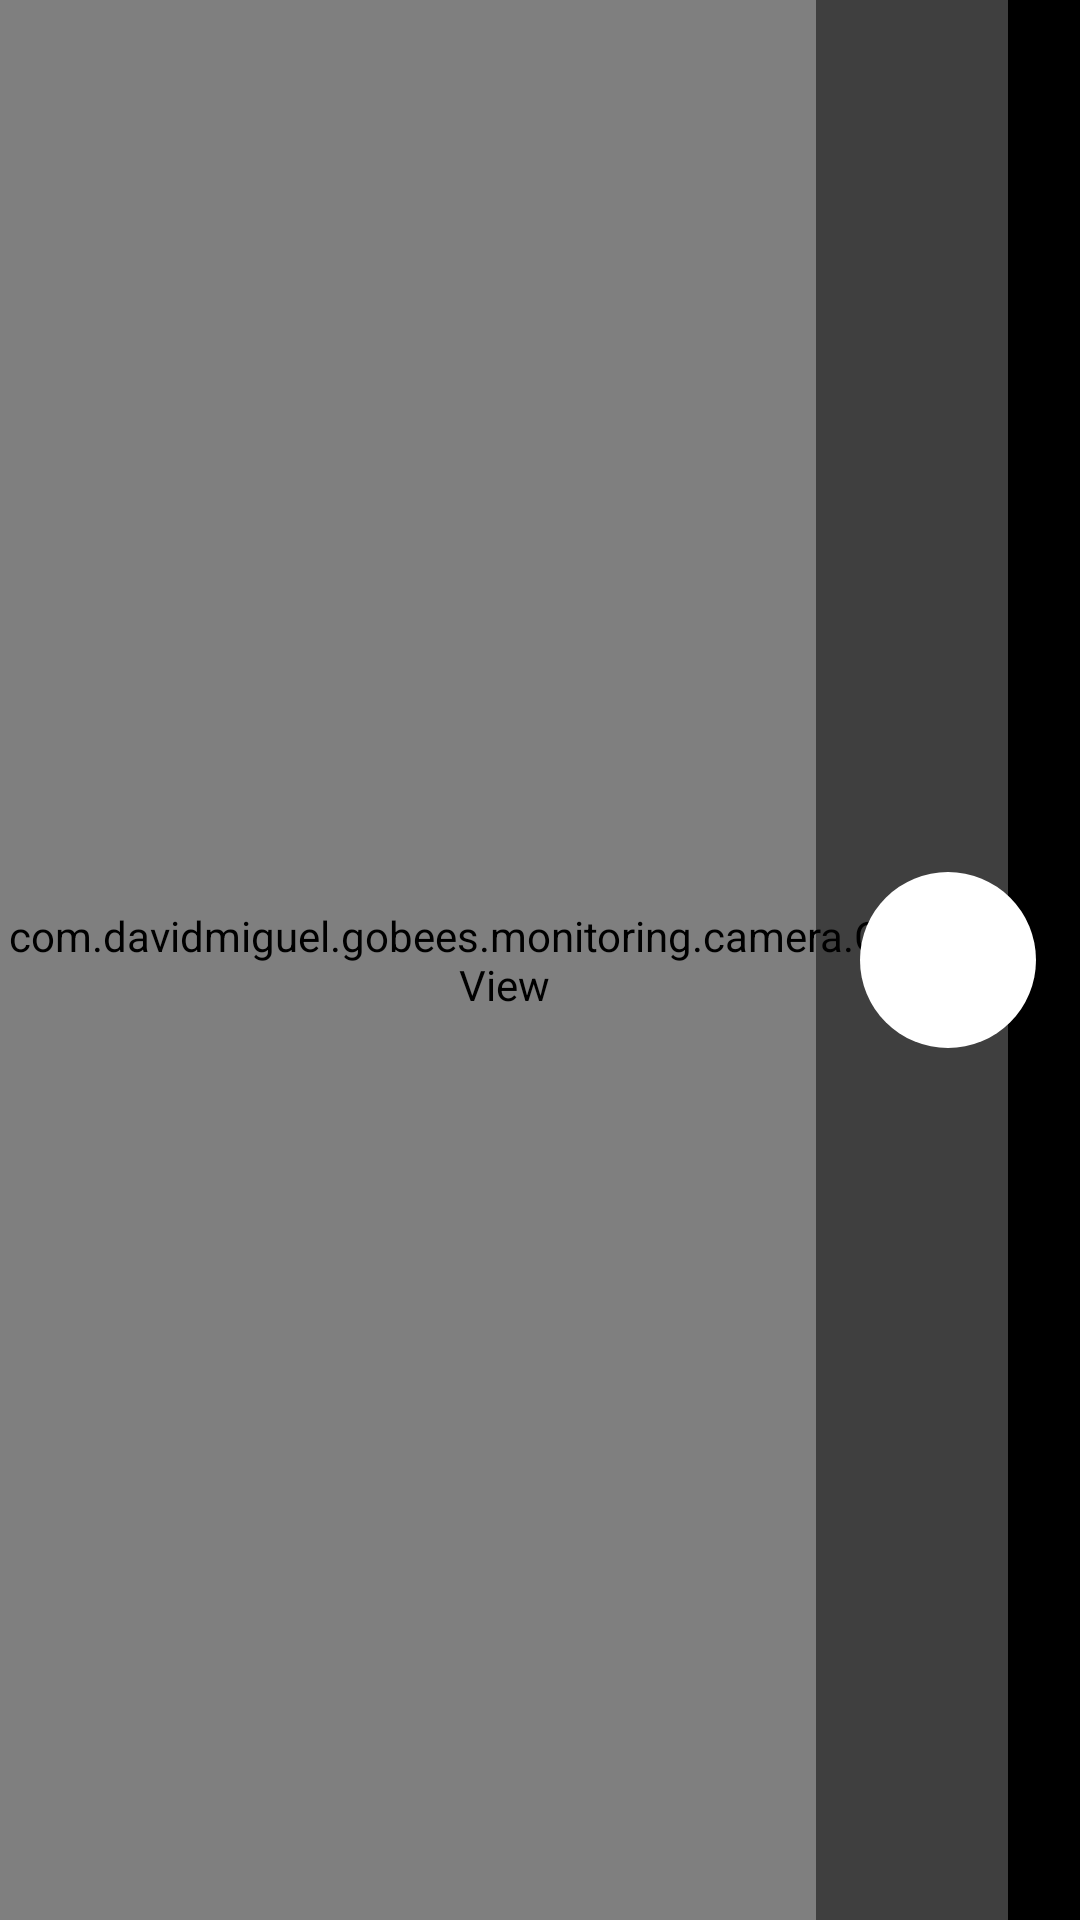

Where to tap for icons on this 1080×1920 app screen, as (x,y):
Start record icon: (948,960)
